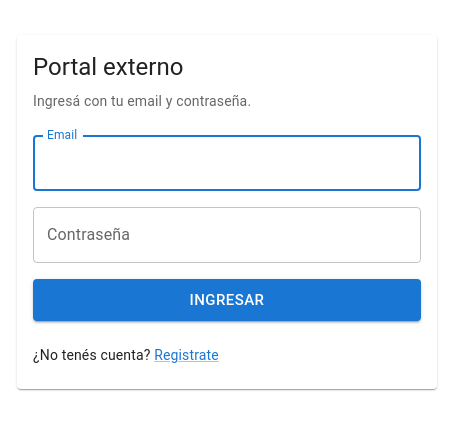
Test: Formulario de login externo › muestra errores de validación al enviar vacío
Click the button "Ingresar": (227, 300) [33,279,421,321]
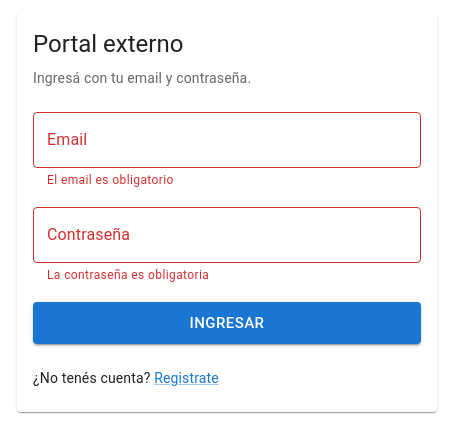
Now the text "El email es obligatorio" is shown, box [47,173,174,187]
Now the text "La contraseña es obligatoria" is shown, box [47,268,209,282]
